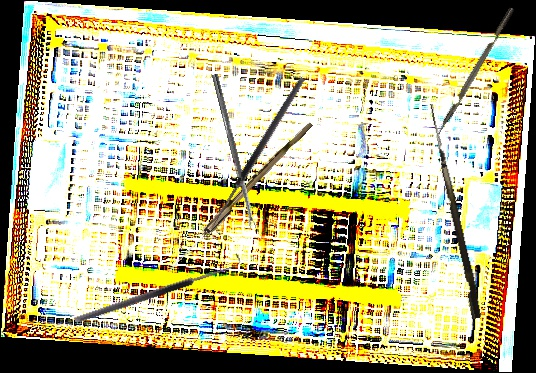Chopper: (430, 6, 521, 147)
Hook Surgical: (208, 76, 313, 236), (419, 103, 486, 320), (71, 251, 243, 326)
Surgical Spoon: (165, 118, 314, 276), (210, 73, 257, 230)
